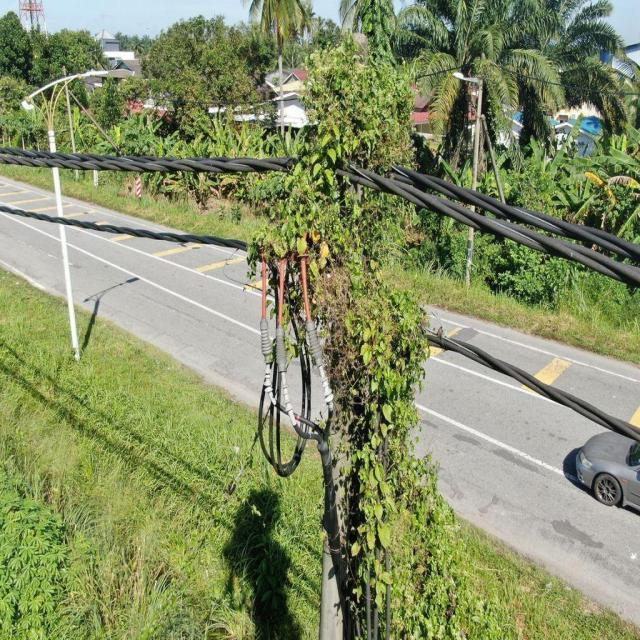critical vegetation: (255, 24, 466, 624)
